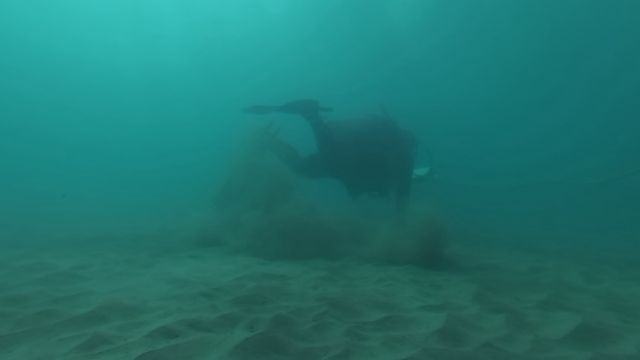Diver: (216, 68, 469, 249)
